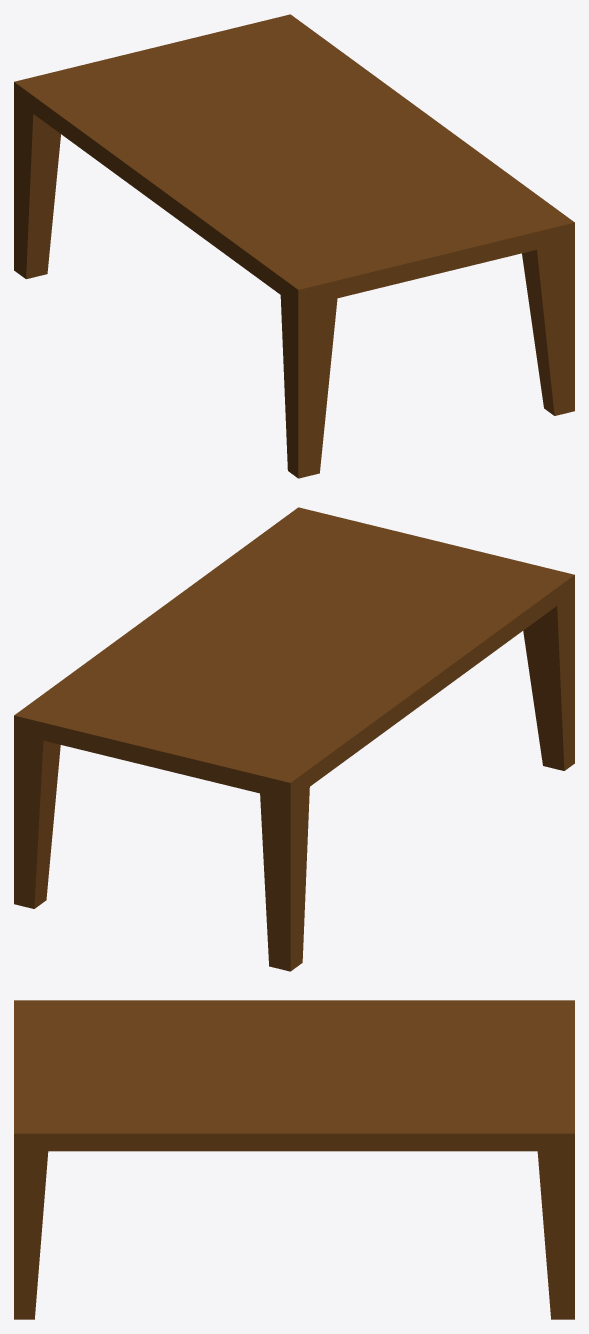
File: STÓŁ.glb
The picture shows the model from 3 angles, top to bottom: view 1: azimuth 30°, elevation 25°; view 2: azimuth 150°, elevation 25°; view 3: azimuth 270°, elevation 25°; orthographic projection.
Visible parts, largest first — view 1: Cube; view 2: Cube; view 3: Cube.
Part boxes in pixels (x1,y1,x2,y2): Cube: (14, 14, 574, 478); Cube: (14, 507, 574, 971); Cube: (14, 1000, 574, 1319).
Bounding box in the file's own units: 1.33 × 0.8666 × 2.37.
